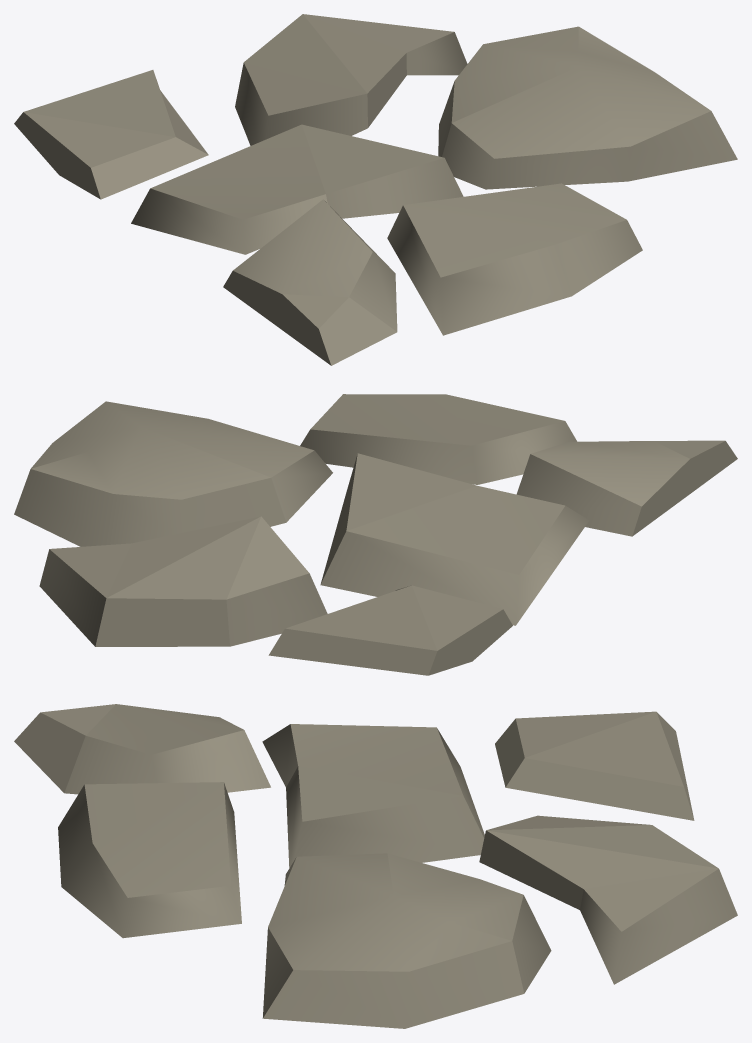
The model's file is Stone_Path_Ending_R.glb.
3 renders of one model, top to bottom at view 1: azimuth 30°, elevation 25°; view 2: azimuth 150°, elevation 25°; view 3: azimuth 270°, elevation 25°, orthographic. The views are drawn at different scales.
Parts seen in each view (by area): view 1: Stone_Path_Ending_R; view 2: Stone_Path_Ending_R; view 3: Stone_Path_Ending_R.
Part boxes in pixels (<box>): Stone_Path_Ending_R: <box>14,14,737,365</box>; Stone_Path_Ending_R: <box>14,394,737,675</box>; Stone_Path_Ending_R: <box>14,704,737,1028</box>.
Size of the model in its own units: 0.8467 by 0.1391 by 0.9457.
